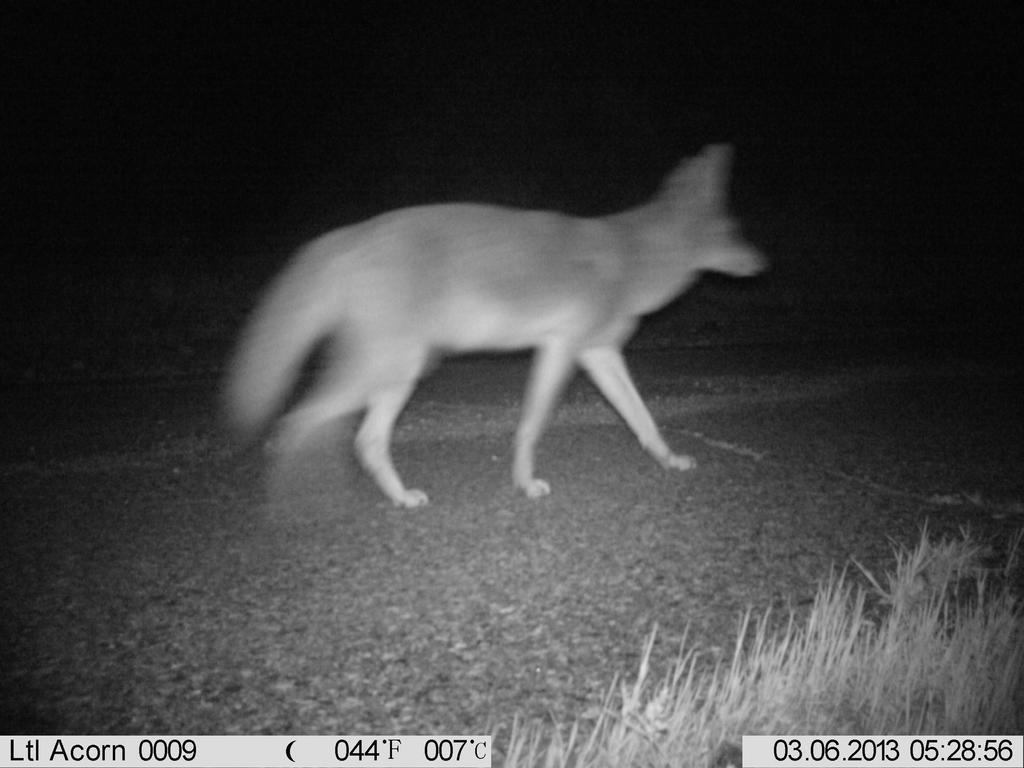coyote: (198, 133, 790, 520)
